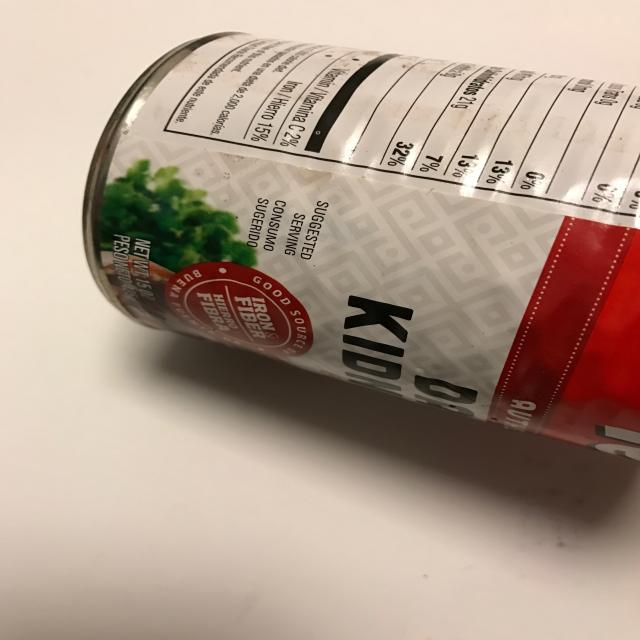metal: (81, 30, 640, 465)
